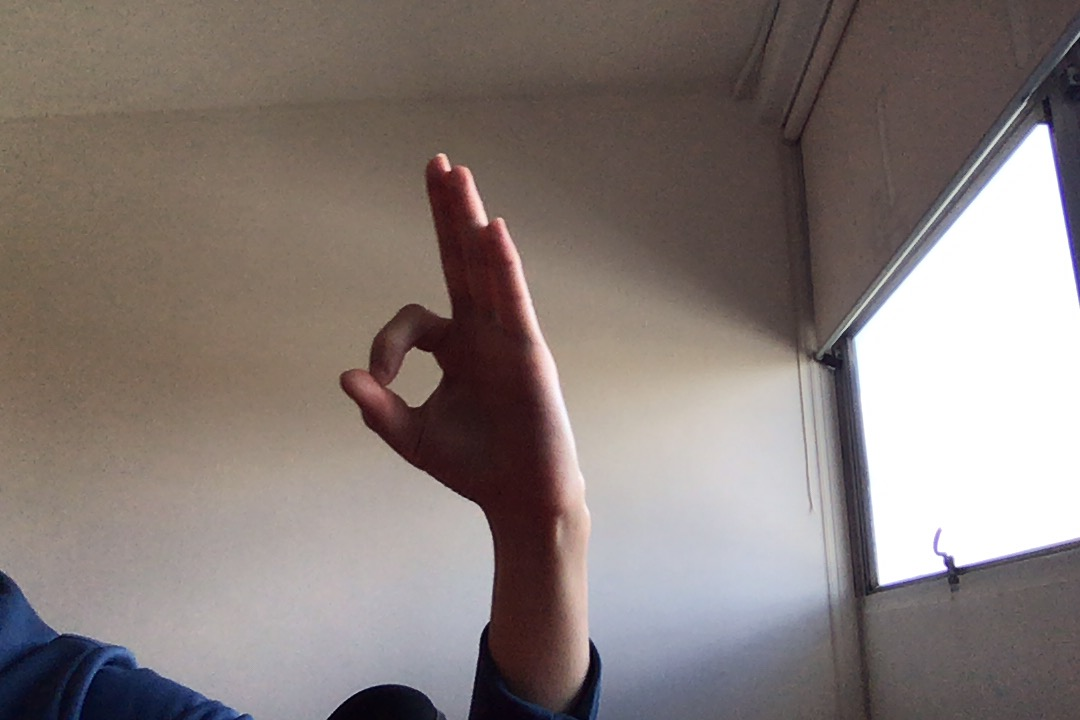oksign: (332, 147, 594, 522)
